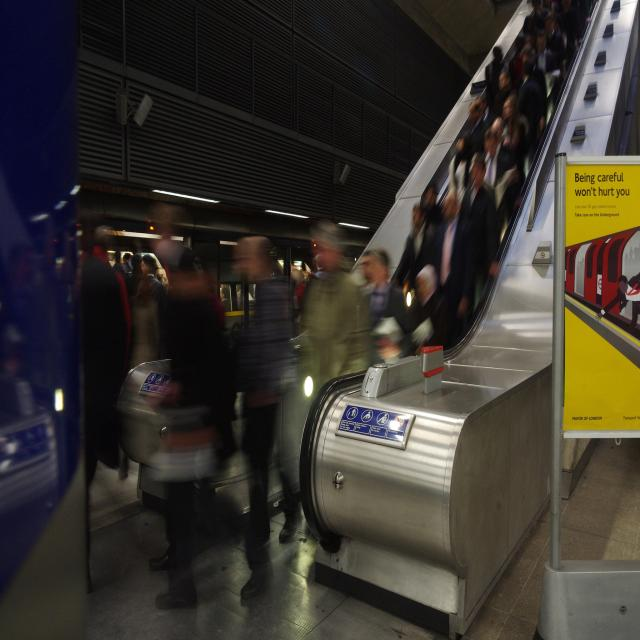body: (17, 220, 129, 605), (139, 195, 241, 616), (287, 213, 373, 555), (234, 236, 304, 602), (203, 294, 242, 606), (406, 263, 455, 437), (445, 129, 479, 305), (436, 190, 474, 338), (356, 245, 404, 362), (498, 94, 532, 248), (464, 157, 500, 280), (398, 202, 438, 296), (592, 265, 640, 337), (516, 59, 546, 173), (130, 248, 168, 327), (519, 42, 549, 137), (482, 127, 510, 189), (544, 12, 568, 78), (525, 1, 594, 22), (277, 254, 324, 284), (484, 45, 508, 101), (344, 404, 391, 430), (534, 29, 559, 75), (564, 23, 586, 62), (418, 184, 446, 214), (474, 92, 492, 128), (498, 70, 514, 101), (490, 118, 506, 140)
